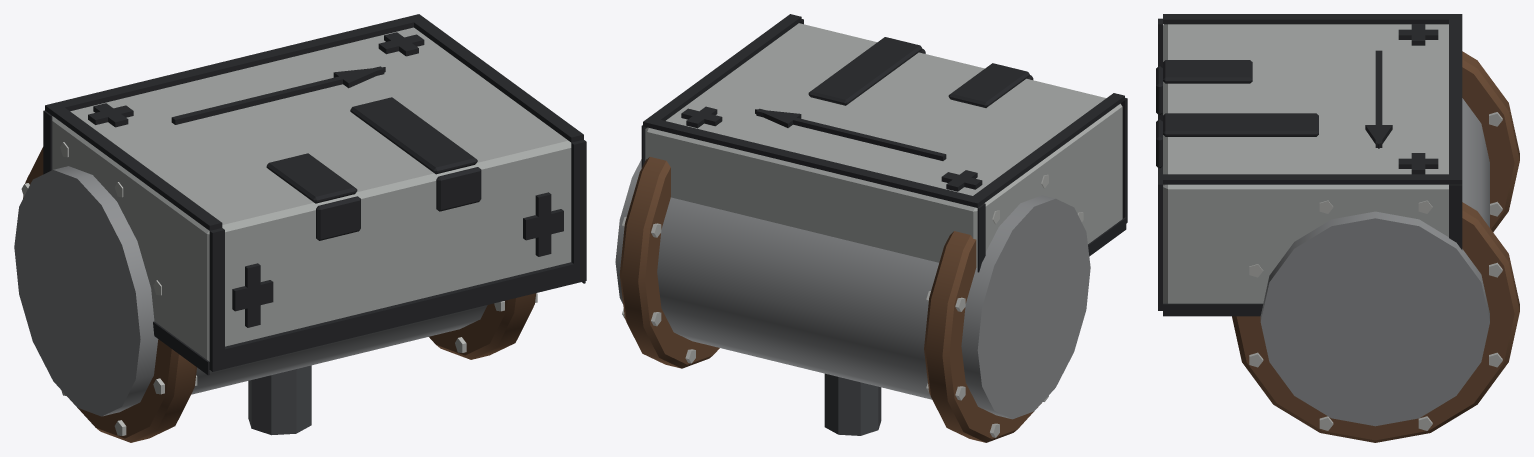
The model's file is top-up-valve-east.glb.
The picture shows the model from 3 angles, left to right: view 1: azimuth 30°, elevation 25°; view 2: azimuth 150°, elevation 25°; view 3: azimuth 270°, elevation 25°; orthographic projection. The views are drawn at different scales.
Visible parts, largest first — view 1: body; view 2: body; view 3: body.
Boxes of the visible parts, <box> form: body: <box>14,14,586,442</box>; body: <box>615,14,1127,442</box>; body: <box>1156,14,1519,442</box>.
Bounding box in the file's own units: 1 × 0.776 × 0.856.
